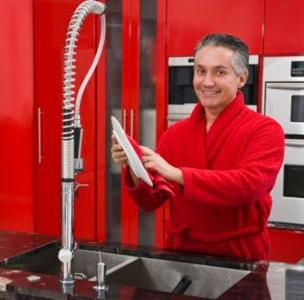person: (111, 34, 284, 260)
